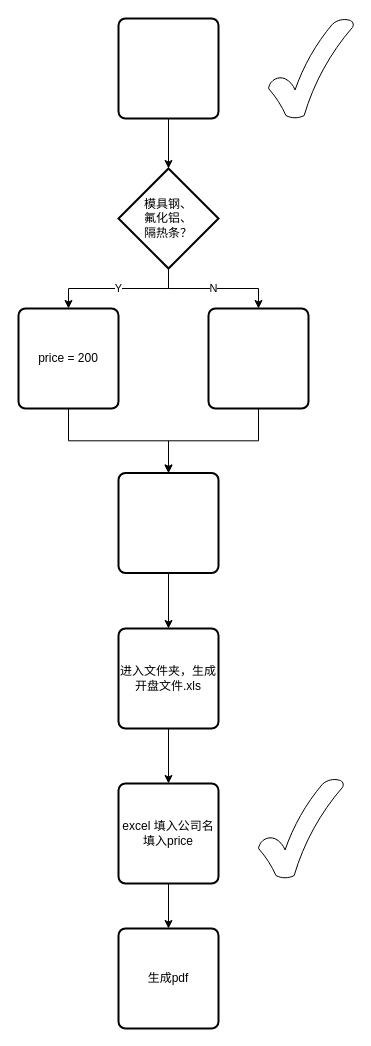
Some shapes in this 371 by 1046 pixel diagram are drawn without their labels. The centre of each missing label's shape, as x and y in pixels:
price = 100: the point at 258,358
复制文件夹名: the point at 168,523
遍历文件夹: the point at 168,68
